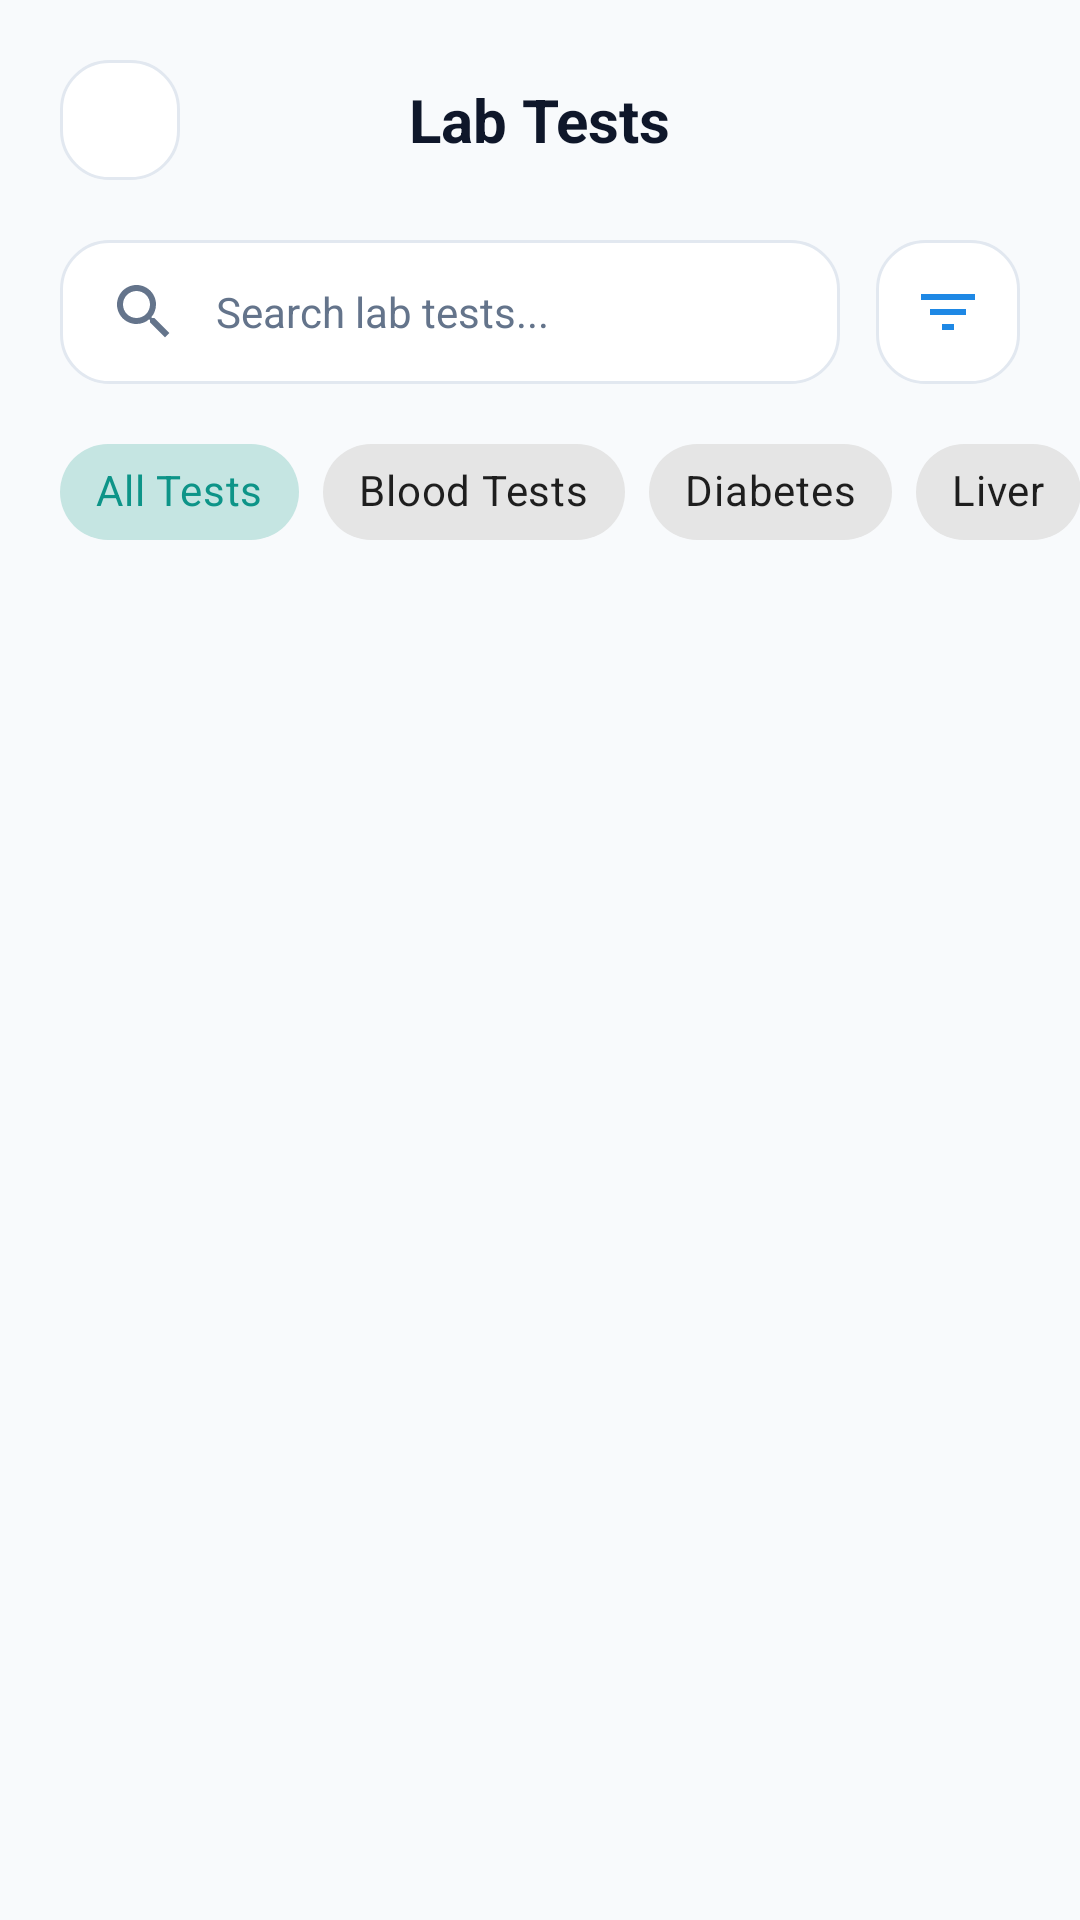

Screen size 1080 x 1920. Icon name, then its box in pixels as BBox(x1, y1, x2, y2):
Filter: BBox(921, 294, 975, 330)
